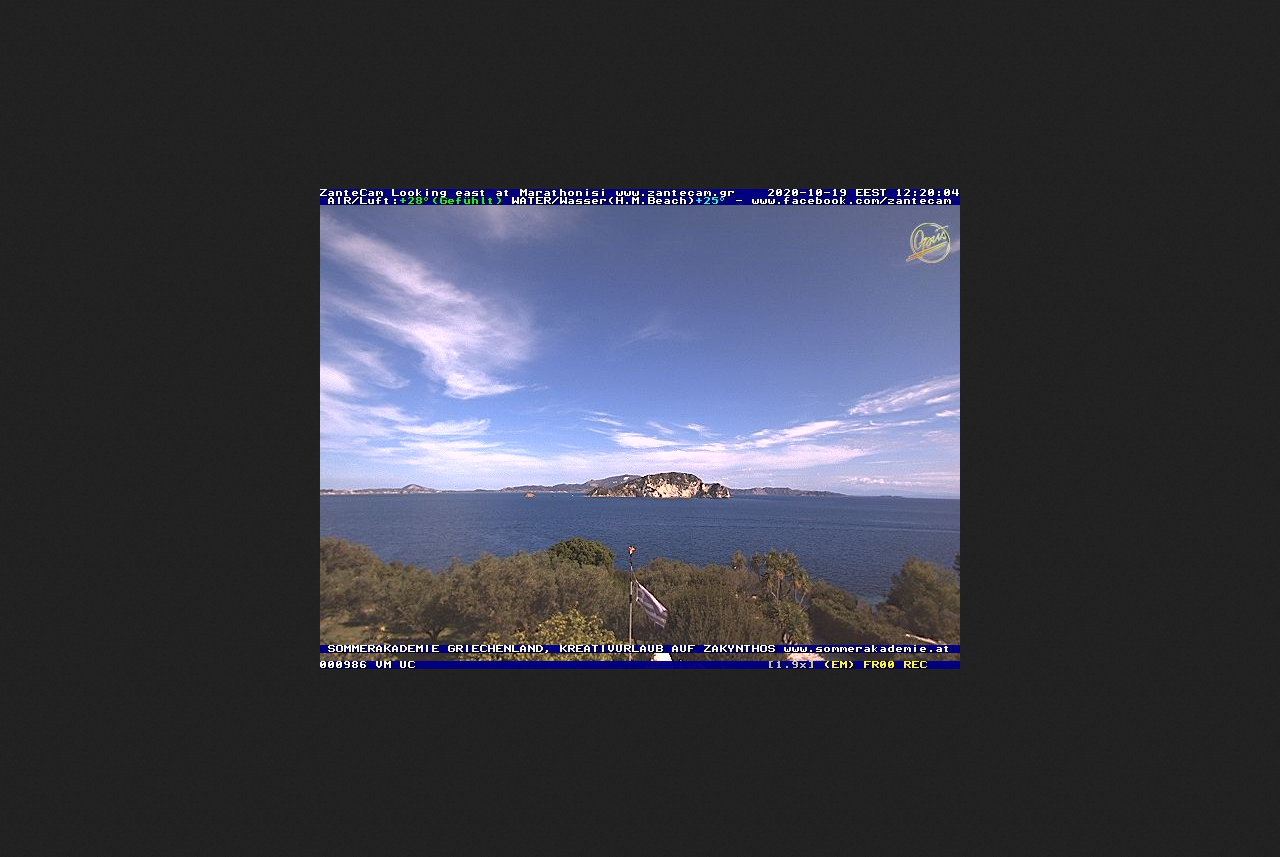maybe: (630, 571, 669, 631)
